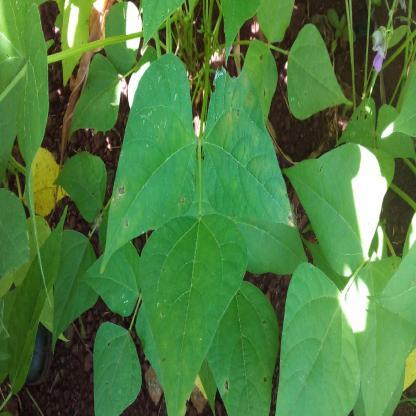Beans_Angular_LeafSpot: (96, 58, 200, 272), (290, 144, 391, 274), (204, 279, 283, 416)
